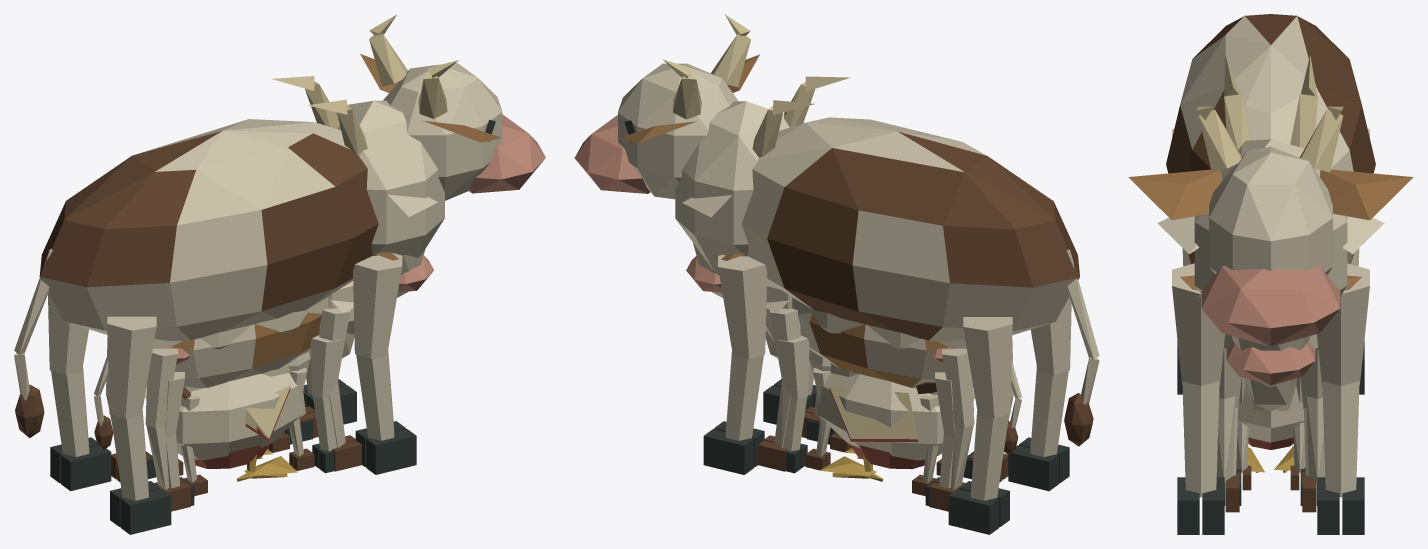
The model's file is riverside-livestock-kit-low.glb.
3 renders of one model, left to right at view 1: azimuth 30°, elevation 25°; view 2: azimuth 150°, elevation 25°; view 3: azimuth 270°, elevation 25°, orthographic. The views are drawn at different scales.
Parts seen in each view (by area): view 1: GEO-cow-body, GEO-cow-head, GEO-cow-leg-BL, GEO-cow-leg-FL, GEO-duck-body, GEO-cow-leg-BR, GEO-calf-body, GEO-goat-leg-BL, GEO-calf-leg-FL, GEO-goat-head, GEO-cow-tail, GEO-goat-leg-FL (+10 smaller); view 2: GEO-cow-body, GEO-cow-head, GEO-cow-leg-BR, GEO-cow-leg-FR, GEO-cow-leg-BL, GEO-calf-body, GEO-duck-body, GEO-goat-leg-BR, GEO-calf-leg-FR, GEO-goat-head, GEO-cow-tail, GEO-goat-leg-FR (+10 smaller); view 3: GEO-cow-head, GEO-cow-body, GEO-cow-leg-FL, GEO-cow-leg-FR, GEO-goat-head, GEO-calf-head, GEO-goat-leg-FL, GEO-goat-leg-FR, GEO-duck-body, GEO-calf-body, GEO-kid-leg-FL, GEO-kid-leg-FR (+3 smaller).
Boxes of the visible parts, x1,y1,x2,y2 form: GEO-cow-body: (39,100,444,364); GEO-cow-head: (360,14,545,200); GEO-cow-leg-BL: (107,316,171,534); GEO-cow-leg-FL: (353,253,416,474); GEO-duck-body: (176,352,310,460); GEO-cow-leg-BR: (48,293,111,491); GEO-calf-body: (171,281,354,387); GEO-goat-leg-BL: (145,348,190,511); GEO-calf-leg-FL: (310,335,342,473); GEO-goat-head: (271,76,437,216); GEO-cow-tail: (14,249,52,438); GEO-goat-leg-FL: (319,308,361,471); GEO-cow-body: (675,101,1079,364); GEO-cow-head: (574,14,759,199); GEO-cow-leg-BR: (948,317,1012,534); GEO-cow-leg-FR: (703,254,767,474); GEO-cow-leg-BL: (1008,297,1071,491); GEO-calf-body: (765,281,948,388); GEO-duck-body: (810,352,943,460); GEO-goat-leg-BR: (929,348,974,511); GEO-calf-leg-FR: (778,335,809,473); GEO-goat-head: (682,76,850,217); GEO-cow-tail: (1064,249,1099,446); GEO-goat-leg-FR: (758,308,800,471); GEO-cow-head: (1128,106,1413,346); GEO-cow-body: (1166,14,1375,387); GEO-cow-leg-FL: (1172,263,1224,534); GEO-cow-leg-FR: (1317,263,1369,534); GEO-goat-head: (1157,55,1384,254); GEO-calf-head: (1180,275,1361,385); GEO-goat-leg-FL: (1216,349,1239,512); GEO-goat-leg-FR: (1302,349,1325,512); GEO-duck-body: (1237,378,1304,442); GEO-calf-body: (1223,334,1318,411); GEO-kid-leg-FL: (1236,377,1251,490); GEO-kid-leg-FR: (1290,377,1305,490).
Size of the model in its own units: 2.41 by 1.72 by 0.98.
